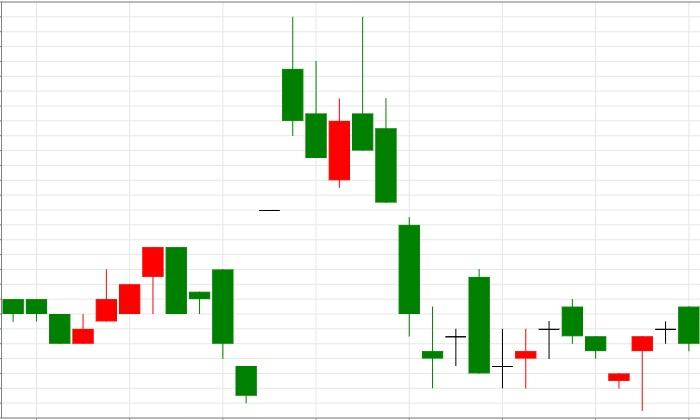bearish_engulfing_fall: (72, 247, 187, 345)
